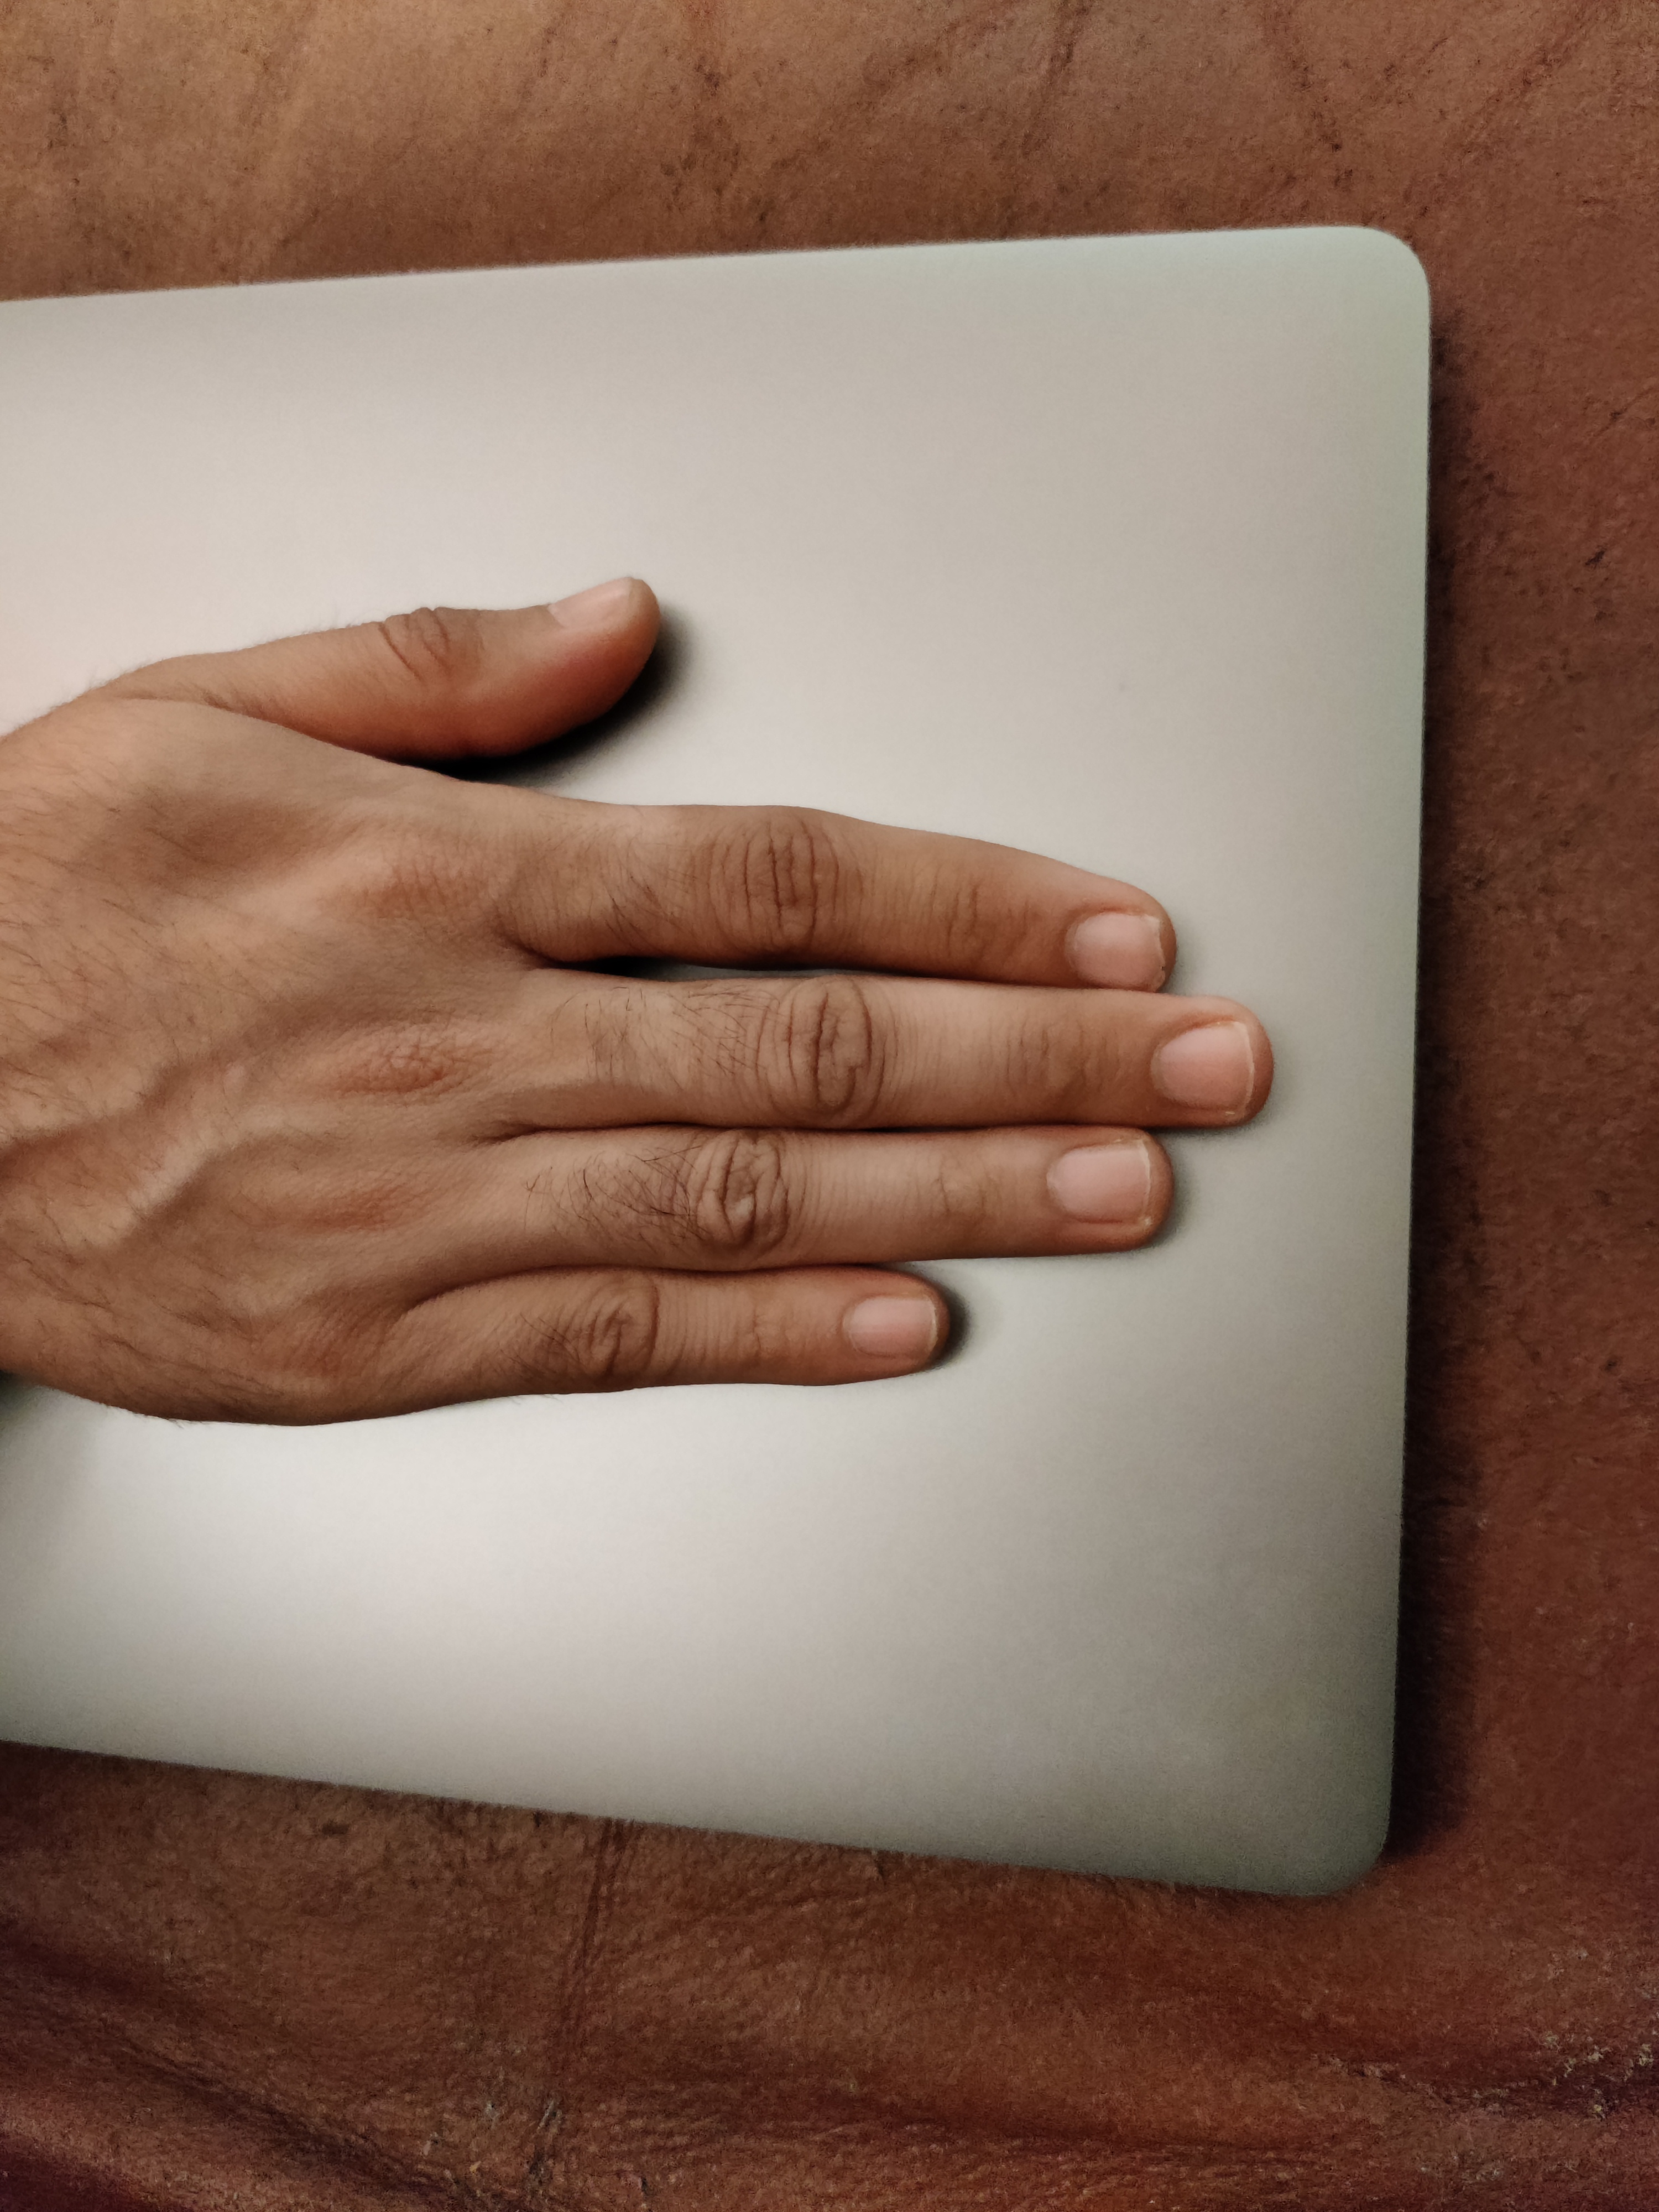left: (9, 260, 1493, 1738)
